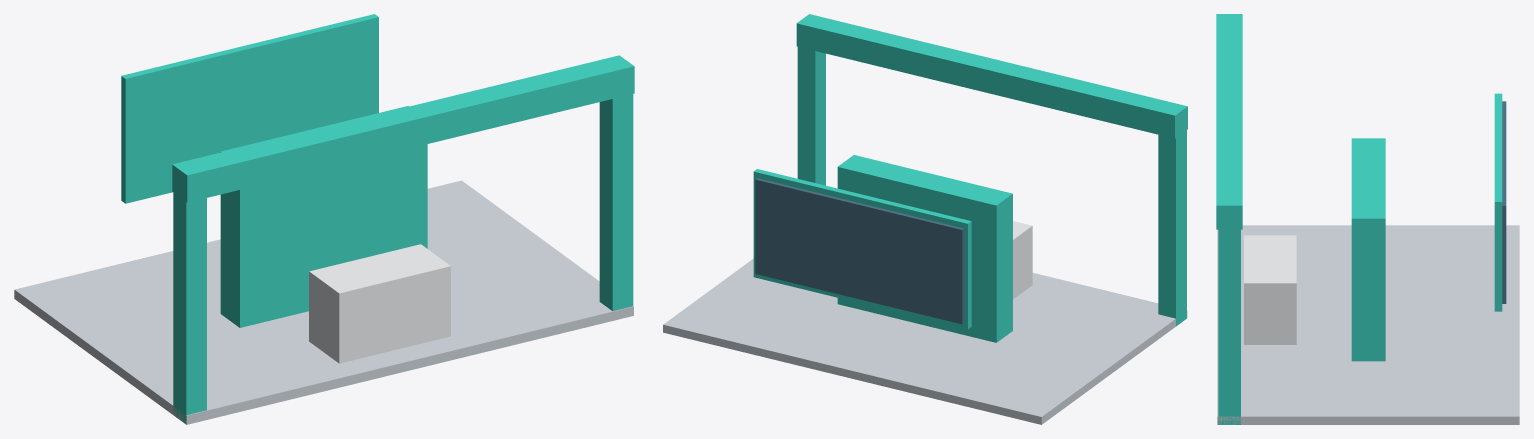
3 views of the same model, side by side, from view 1: azimuth 30°, elevation 25°; view 2: azimuth 150°, elevation 25°; view 3: azimuth 270°, elevation 25° (orthographic). The views are drawn at different scales.
Parts seen in each view (by area): view 1: Exhibition Booth Concept; view 2: Exhibition Booth Concept; view 3: Exhibition Booth Concept.
Part boxes in pixels (<box>): Exhibition Booth Concept: <box>14,14,634,424</box>; Exhibition Booth Concept: <box>663,14,1187,424</box>; Exhibition Booth Concept: <box>1216,14,1519,424</box>.
Size of the model in its own units: 6 by 3.2 by 4.02.
